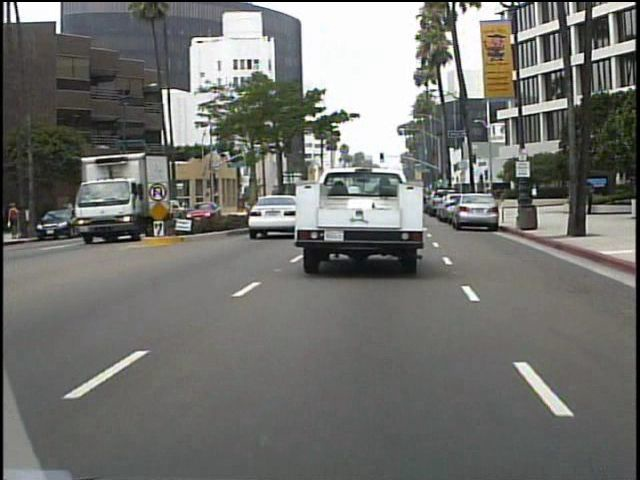person: (584, 179, 600, 218)
